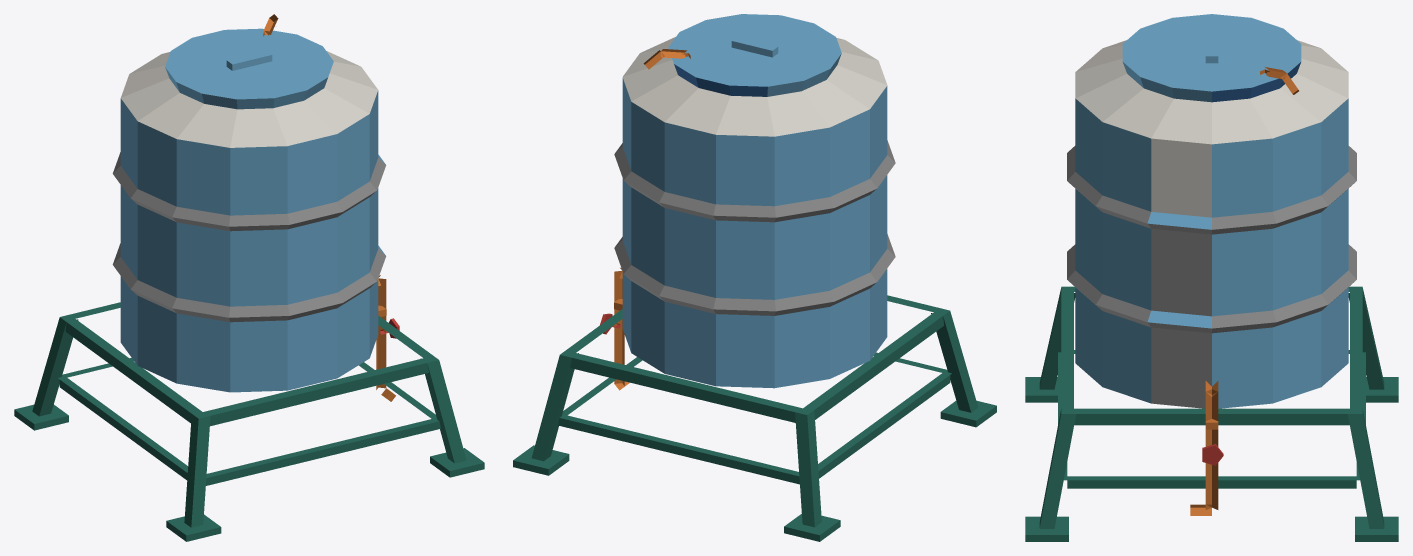
File: su_deposu.glb
3 views of the same model, side by side, from view 1: azimuth 30°, elevation 25°; view 2: azimuth 150°, elevation 25°; view 3: azimuth 270°, elevation 25° (orthographic). The views are drawn at different scales.
Visible parts, largest first — view 1: su_deposu; view 2: su_deposu; view 3: su_deposu.
Part boxes in pixels (x1,y1,x2,y2): su_deposu: (14, 14, 484, 541); su_deposu: (513, 14, 996, 541); su_deposu: (1025, 14, 1398, 541).
Size of the model in its own units: 1.2 by 1.5 by 1.2.
